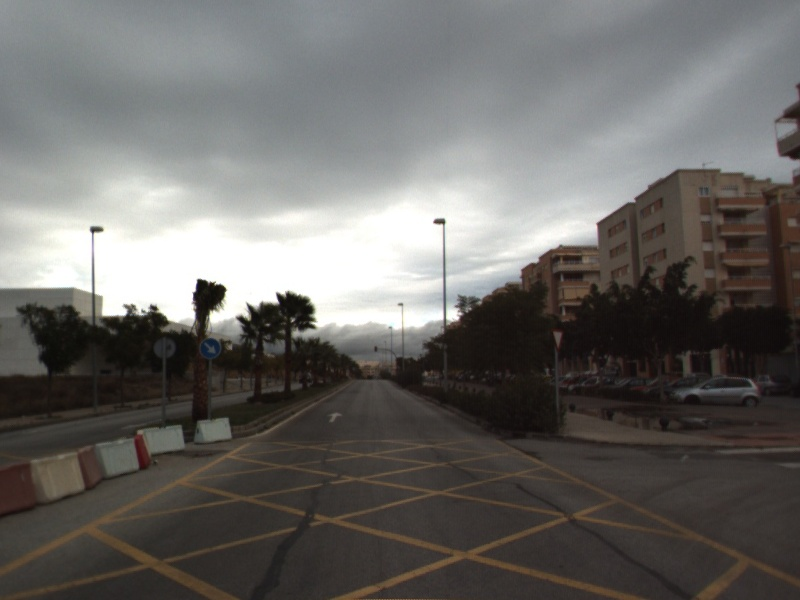STRAIGHT: (325, 410, 345, 424)
